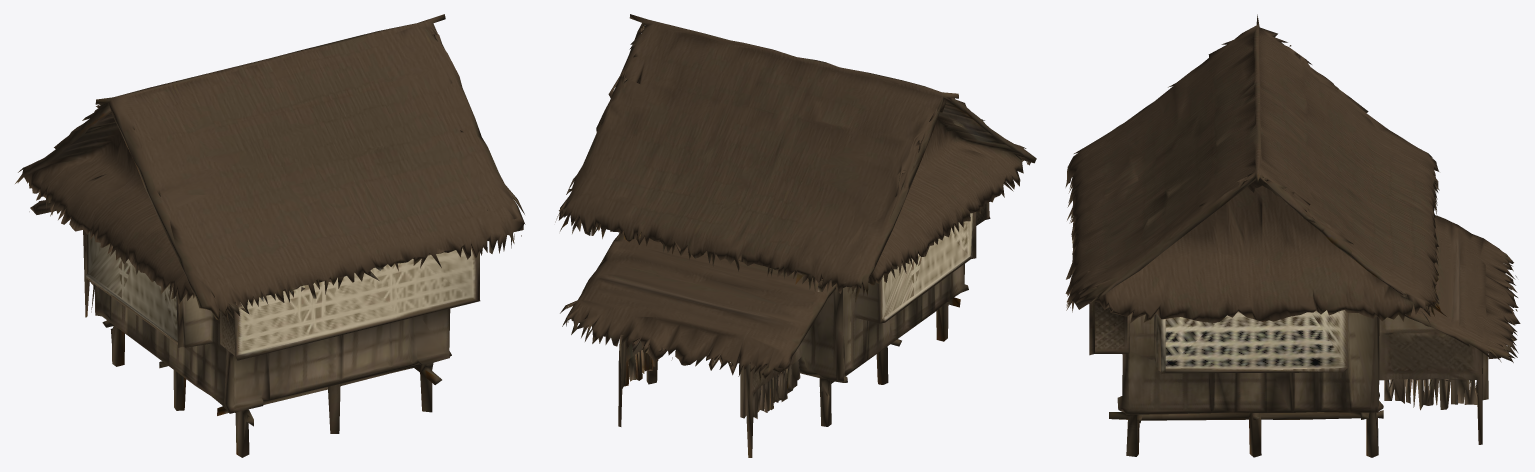
The model's file is finalizedbahaykubo3.fbx.
3 views of the same model, side by side, from view 1: azimuth 30°, elevation 25°; view 2: azimuth 150°, elevation 25°; view 3: azimuth 270°, elevation 25° (orthographic). The views are drawn at different scales.
Parts seen in each view (by area): view 1: tripo_node_f9d7b754; view 2: tripo_node_f9d7b754; view 3: tripo_node_f9d7b754.
Part boxes in pixels (x1,y1,x2,y2): tripo_node_f9d7b754: [15, 14, 525, 457]; tripo_node_f9d7b754: [555, 14, 1036, 457]; tripo_node_f9d7b754: [1065, 14, 1520, 457].
Size of the model in its own units: 0.8547 by 0.7663 by 1.
Materials: 1 (1 with a texture image).
